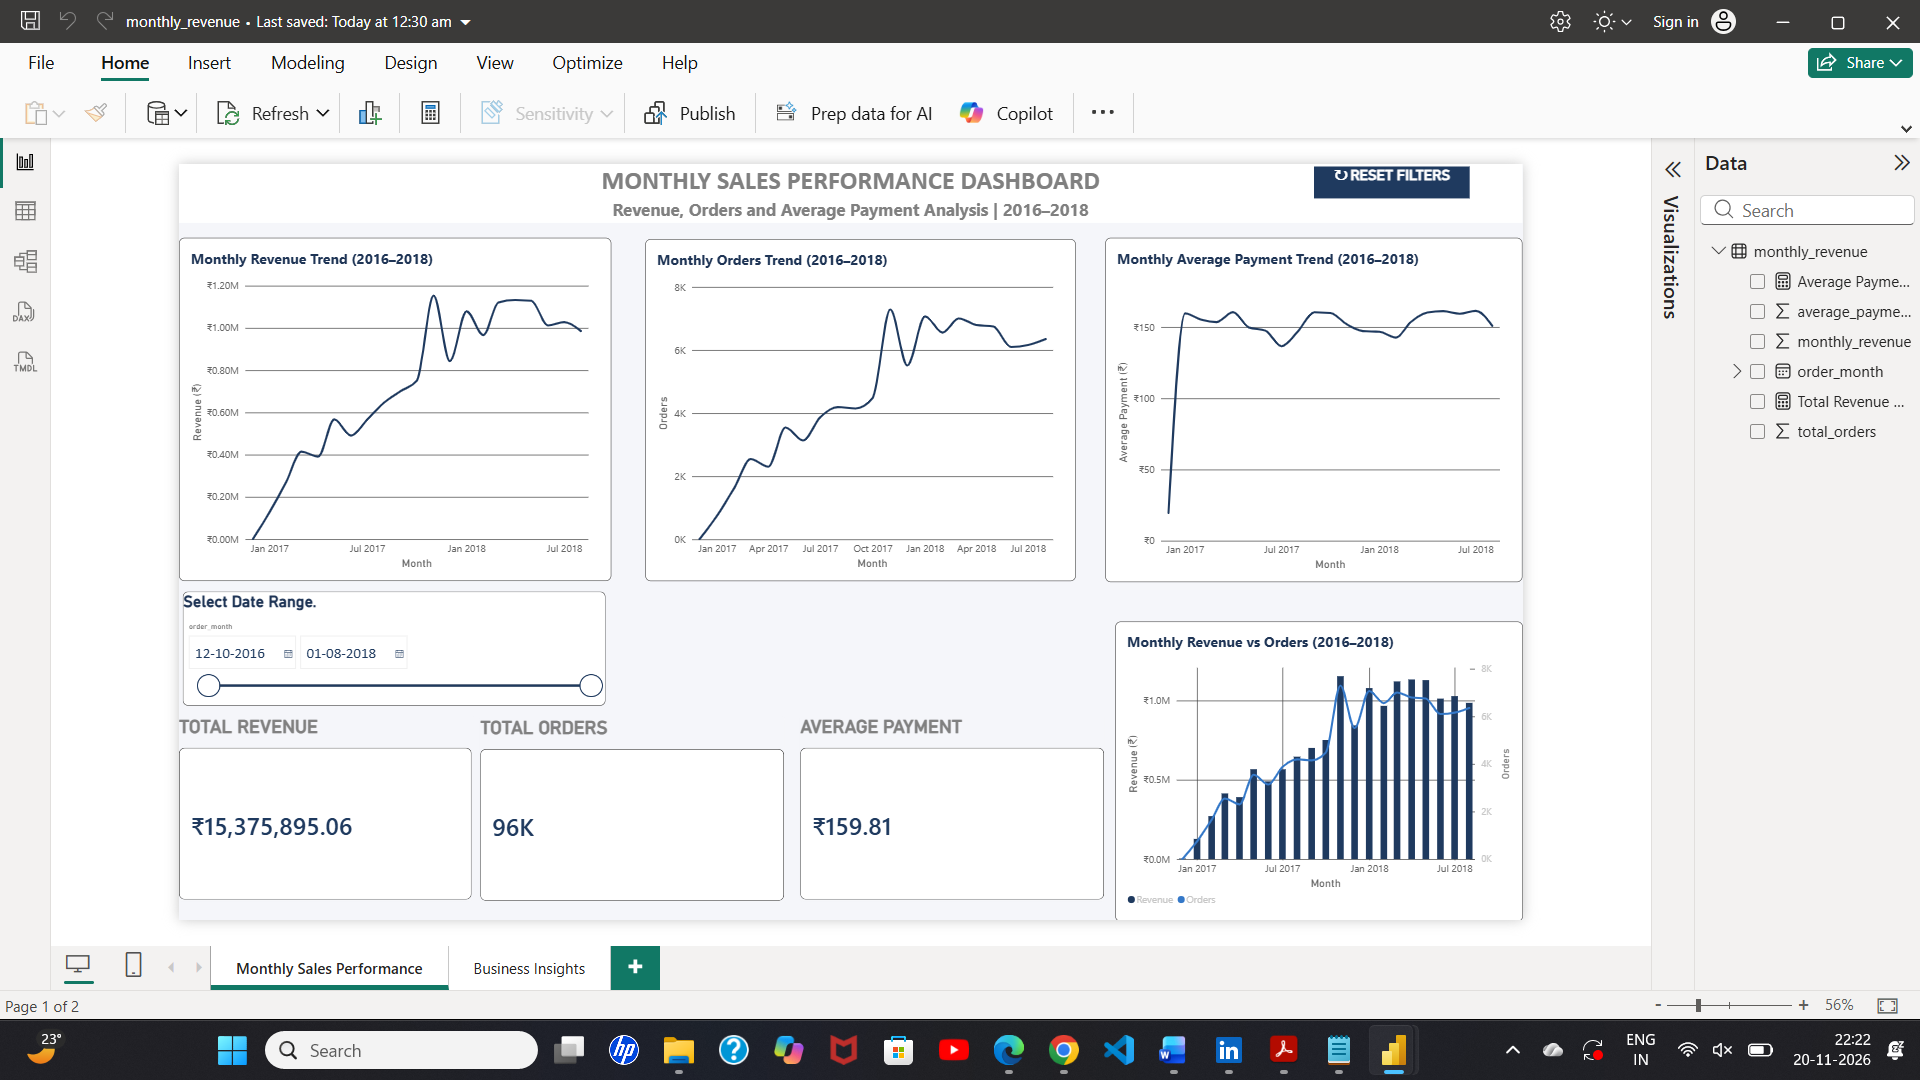

This screenshot's page, from the dashboard's own definition file:
{"tool":"powerbi","page":{"name":"Monthly Sales Performance","canvas":[1920,1080],"ordinal":0},"visuals":[{"type":"lineChart","title":"Monthly Revenue Trend (2016–2018)","fields":{"Category":["monthly_revenue.order_month"],"Y":["Sum(monthly_revenue.monthly_revenue)"]},"box":[0,105.8,617.5,490],"z":0},{"type":"cardVisual","title":"TOTAL REVENUE","fields":{"Data":["monthly_revenue.Total Revenue Display"]},"box":[0,788,418,264],"z":1000},{"type":"cardVisual","title":"TOTAL ORDERS","fields":{"Data":["Sum(monthly_revenue.total_orders)"]},"box":[430.8,788.5,434,264],"z":2000},{"type":"cardVisual","title":"AVERAGE PAYMENT","fields":{"Data":["monthly_revenue.Average Payment Correct"]},"box":[888,788,434,264],"z":3000},{"type":"lineChart","title":"Monthly Orders Trend (2016–2018)","fields":{"Category":["monthly_revenue.order_month"],"Y":["Sum(monthly_revenue.total_orders)"]},"box":[665.4,107.7,615.4,488.5],"z":4000},{"type":"lineChart","title":"Monthly Average Payment Trend (2016–2018)","fields":{"Category":["monthly_revenue.order_month"],"Y":["Avg(monthly_revenue.average_payment)"]},"box":[1322.9,105,596.2,492.3],"z":5000},{"type":"lineStackedColumnComboChart","title":"Monthly Revenue vs Orders (2016–2018)","fields":{"Category":["monthly_revenue.order_month"],"Y":["Sum(monthly_revenue.monthly_revenue)"],"Y2":["Sum(monthly_revenue.total_orders)"]},"box":[1337.8,653.3,582.2,428.9],"z":6000},{"type":"textbox","box":[781.7,0,358.3,30],"z":7000},{"type":"textbox","box":[0,0,1919.5,49.4],"z":8000},{"type":"textbox","box":[0,49.1,1918.9,35.8],"z":9000},{"type":"slicer","title":"Select Date Range.","fields":{"Values":["monthly_revenue.order_month"]},"box":[6,610,603.8,163.5],"z":10000},{"type":"actionButton","title":"↻ RESET FILTERS","box":[1620.8,3.8,222.6,45.3],"z":11000}]}

Visuals, with their boxes on the page's 1920x1080 design canvas (x1, y1, x2, y2). These are canvas units, not pixel positions in the 1920x1080 screenshot, which may show the page scaled, cropped or inside an application window:
"Monthly Revenue Trend (2016–2018)" lineChart: bbox(0, 106, 618, 596)
"TOTAL REVENUE" cardVisual: bbox(0, 788, 418, 1052)
"TOTAL ORDERS" cardVisual: bbox(431, 788, 865, 1052)
"AVERAGE PAYMENT" cardVisual: bbox(888, 788, 1322, 1052)
"Monthly Orders Trend (2016–2018)" lineChart: bbox(665, 108, 1281, 596)
"Monthly Average Payment Trend (2016–2018)" lineChart: bbox(1323, 105, 1919, 597)
"Monthly Revenue vs Orders (2016–2018)" lineStackedColumnComboChart: bbox(1338, 653, 1920, 1082)
textbox: bbox(782, 0, 1140, 30)
textbox: bbox(0, 0, 1920, 49)
textbox: bbox(0, 49, 1919, 85)
"Select Date Range." slicer: bbox(6, 610, 610, 774)
"↻ RESET FILTERS" actionButton: bbox(1621, 4, 1843, 49)
